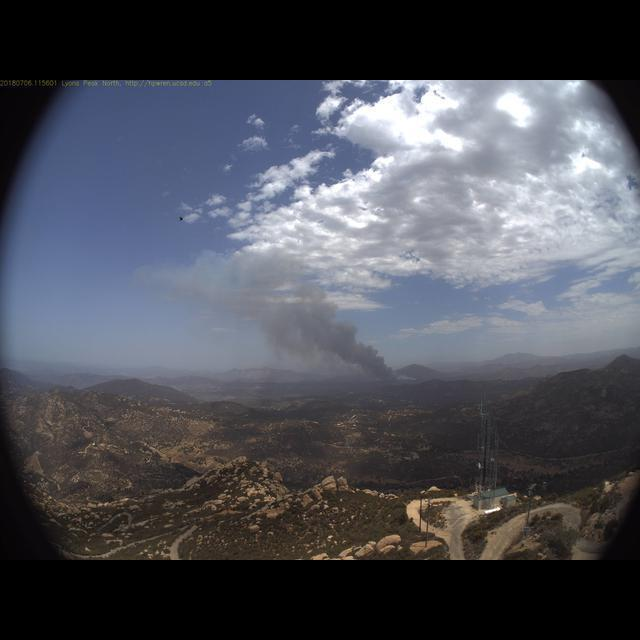Smoke: (162, 244, 404, 393)
